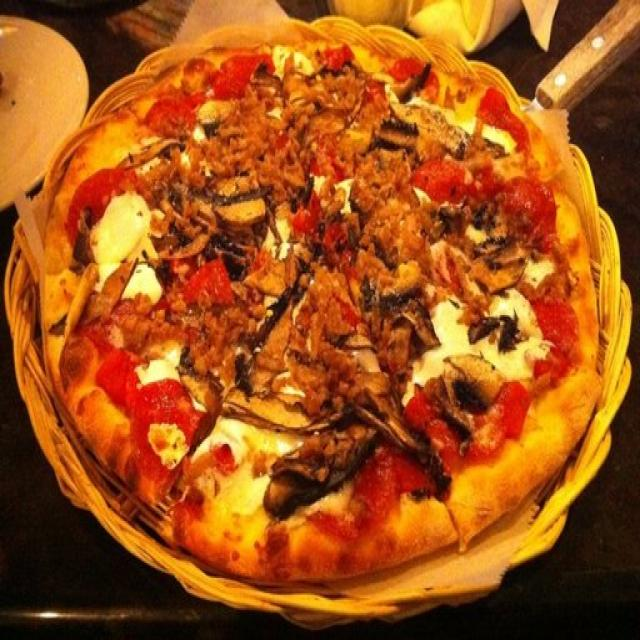Mushrooms: (255, 432, 374, 508), (182, 362, 304, 430), (440, 353, 509, 452), (382, 108, 452, 154), (394, 273, 438, 344), (218, 180, 268, 227), (124, 136, 182, 162), (73, 208, 88, 270)
Pepperoni: (132, 380, 194, 452), (68, 167, 133, 232), (505, 182, 561, 246), (213, 55, 273, 99), (484, 95, 530, 150), (390, 63, 440, 103), (191, 264, 234, 305), (154, 96, 197, 134)
Pizza: (45, 47, 600, 583)
